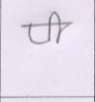i_matra: (50, 12, 65, 43)
